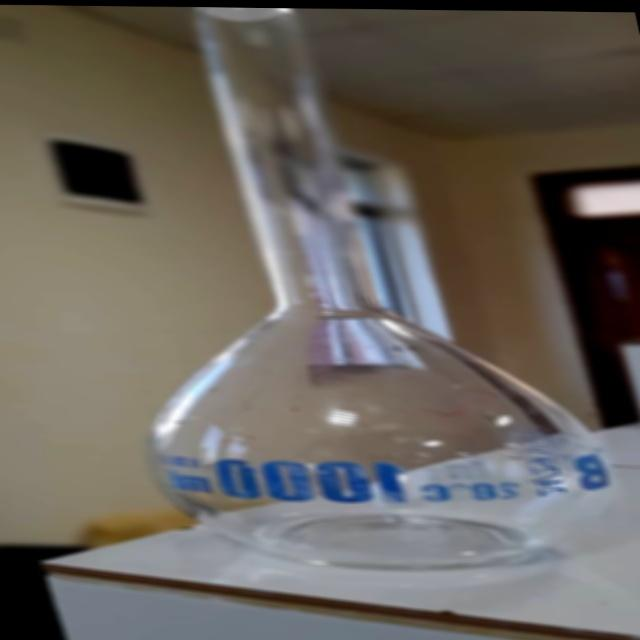Volumetric flask: (29, 6, 624, 566)
